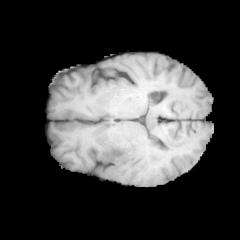glioma: (98, 140, 162, 185)
